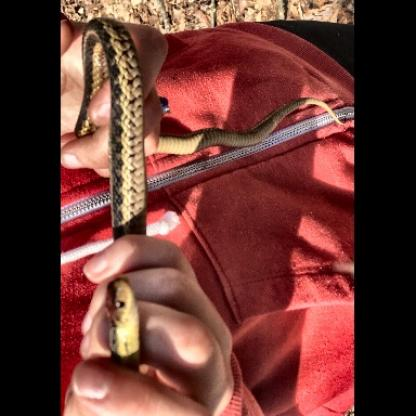Snake: (104, 256, 156, 382)
